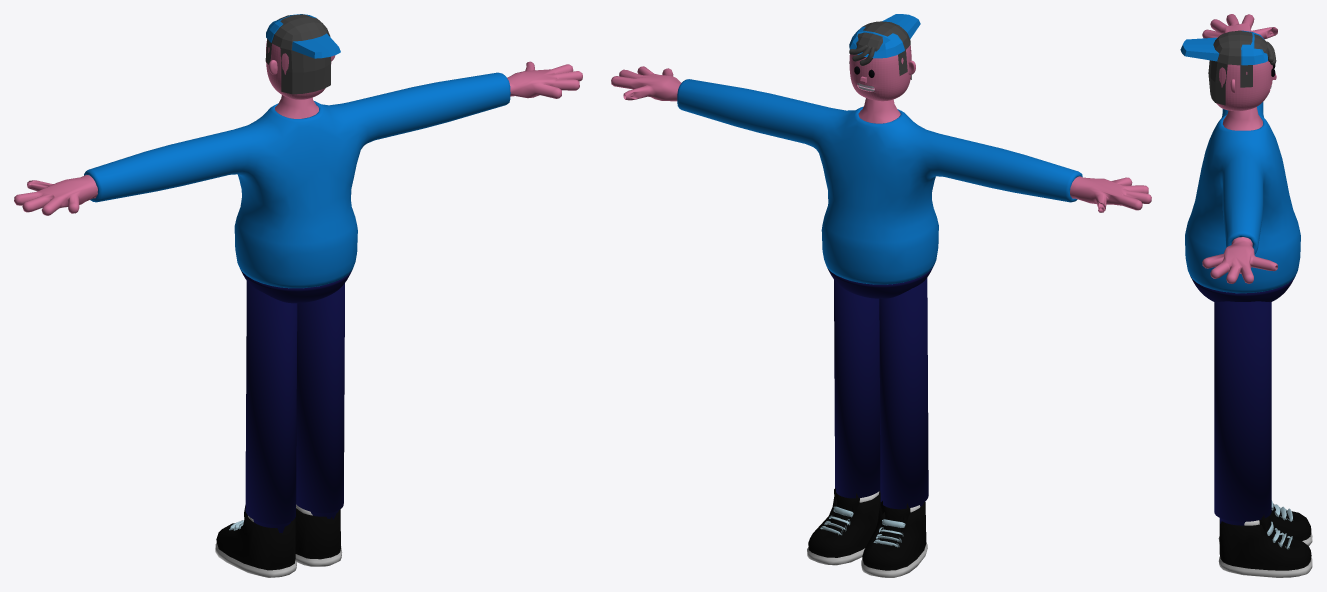
File: umano.obj
3 renders of one model, left to right at view 1: azimuth 30°, elevation 25°; view 2: azimuth 150°, elevation 25°; view 3: azimuth 270°, elevation 25°, orthographic. The views are drawn at different scales.
Parts seen in each view (by area): view 1: trousers.004; view 2: trousers.004; view 3: trousers.004.
Boxes of the visible parts, x1,y1,x2,y2 form: trousers.004: (14,14,582,577); trousers.004: (611,14,1151,577); trousers.004: (1180,14,1312,577).
Size of the model in its own units: 1.53 by 1.43 by 0.3278.
